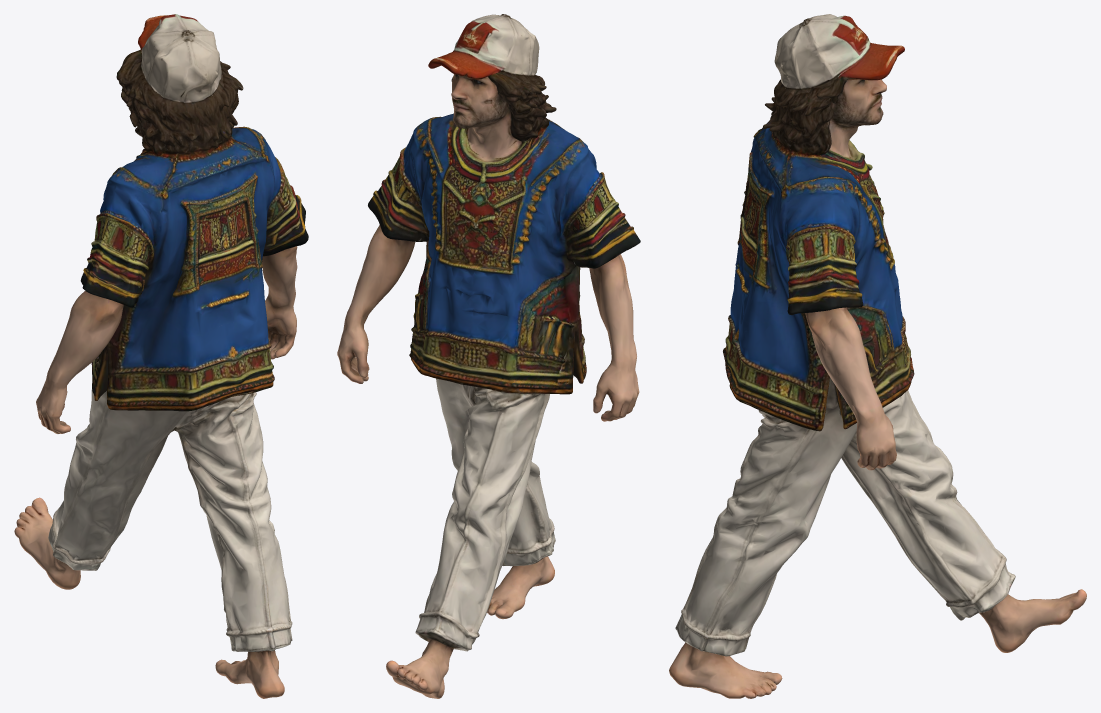
Rendered from iver-01.glb.
3 views of the same model, side by side, from view 1: azimuth 30°, elevation 25°; view 2: azimuth 150°, elevation 25°; view 3: azimuth 270°, elevation 25° (orthographic). The views are drawn at different scales.
Parts seen in each view (by area): view 1: tripo_node_8e341214-a45d-48b5-8118-6a62f33354a0; view 2: tripo_node_8e341214-a45d-48b5-8118-6a62f33354a0; view 3: tripo_node_8e341214-a45d-48b5-8118-6a62f33354a0.
Part boxes in pixels (bbox=[...]): tripo_node_8e341214-a45d-48b5-8118-6a62f33354a0: bbox=[14, 14, 308, 698]; tripo_node_8e341214-a45d-48b5-8118-6a62f33354a0: bbox=[337, 14, 640, 698]; tripo_node_8e341214-a45d-48b5-8118-6a62f33354a0: bbox=[669, 14, 1086, 698].
Size of the model in its own units: 0.4555 by 1 by 0.5742.
1 material, 1 textured.
